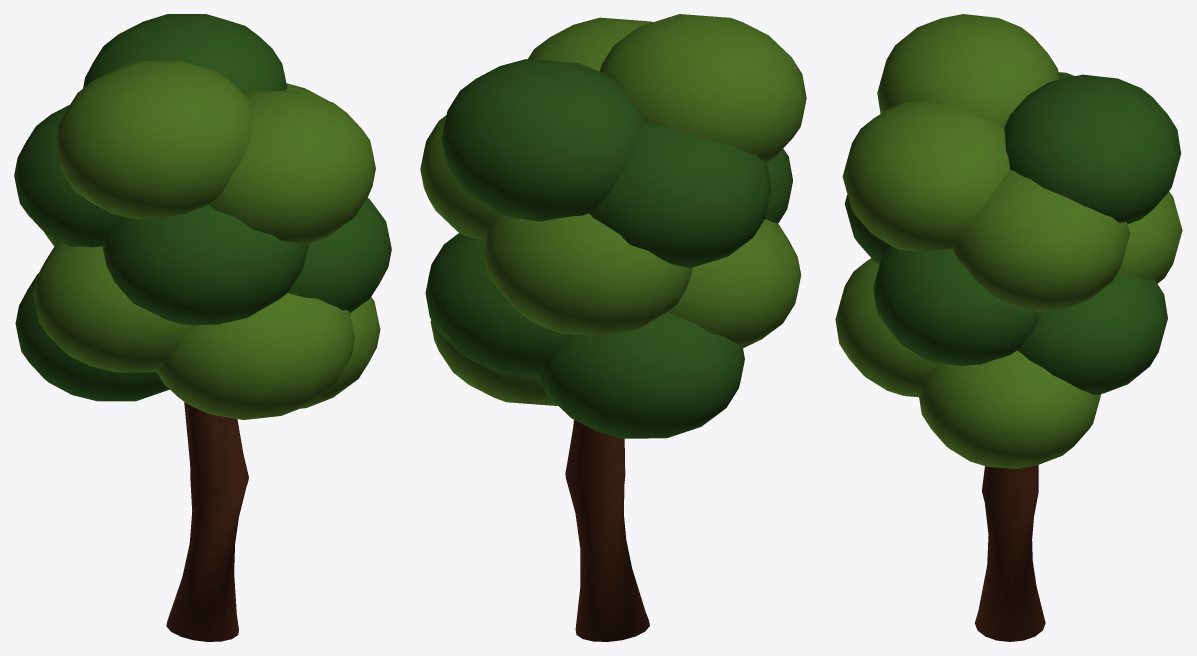
File: SM_tree_LOD1.fbx
3 renders of one model, left to right at view 1: azimuth 30°, elevation 25°; view 2: azimuth 150°, elevation 25°; view 3: azimuth 270°, elevation 25°, orthographic. The views are drawn at different scales.
Parts seen in each view (by area): view 1: SM_tree_LOD1; view 2: SM_tree_LOD1; view 3: SM_tree_LOD1.
Boxes of the visible parts, bbox=[...] form: SM_tree_LOD1: bbox=[14, 14, 391, 641]; SM_tree_LOD1: bbox=[420, 14, 806, 641]; SM_tree_LOD1: bbox=[835, 14, 1182, 641].
Size of the model in its own units: 1.55 by 1.47 by 2.66.
